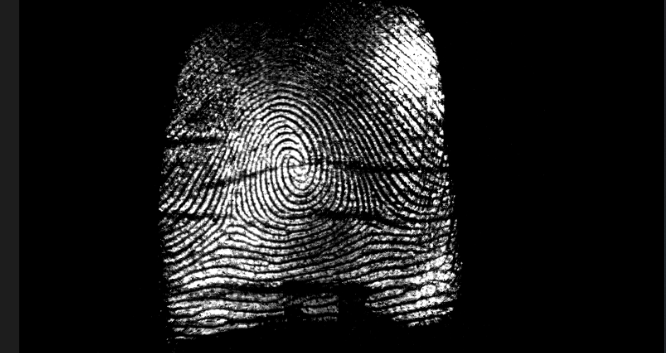deltas: (350, 194, 392, 239), (209, 199, 248, 240)
nucleo: (274, 134, 314, 176)
